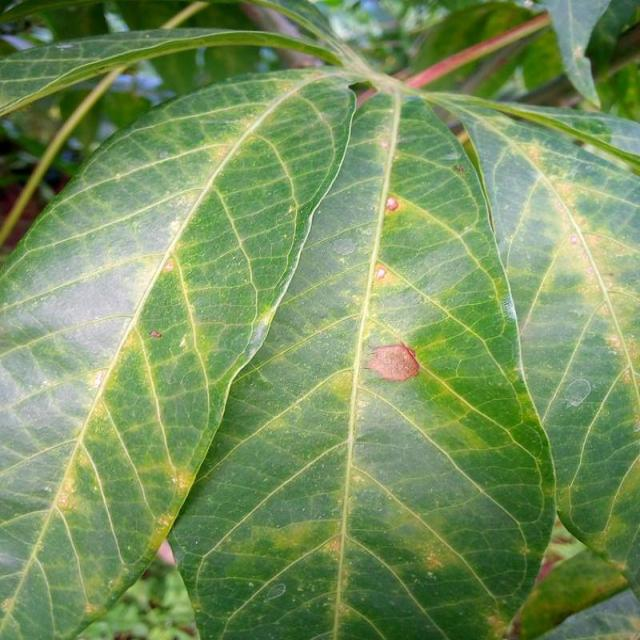cassava leaf: (165, 82, 558, 638), (0, 66, 357, 638)
